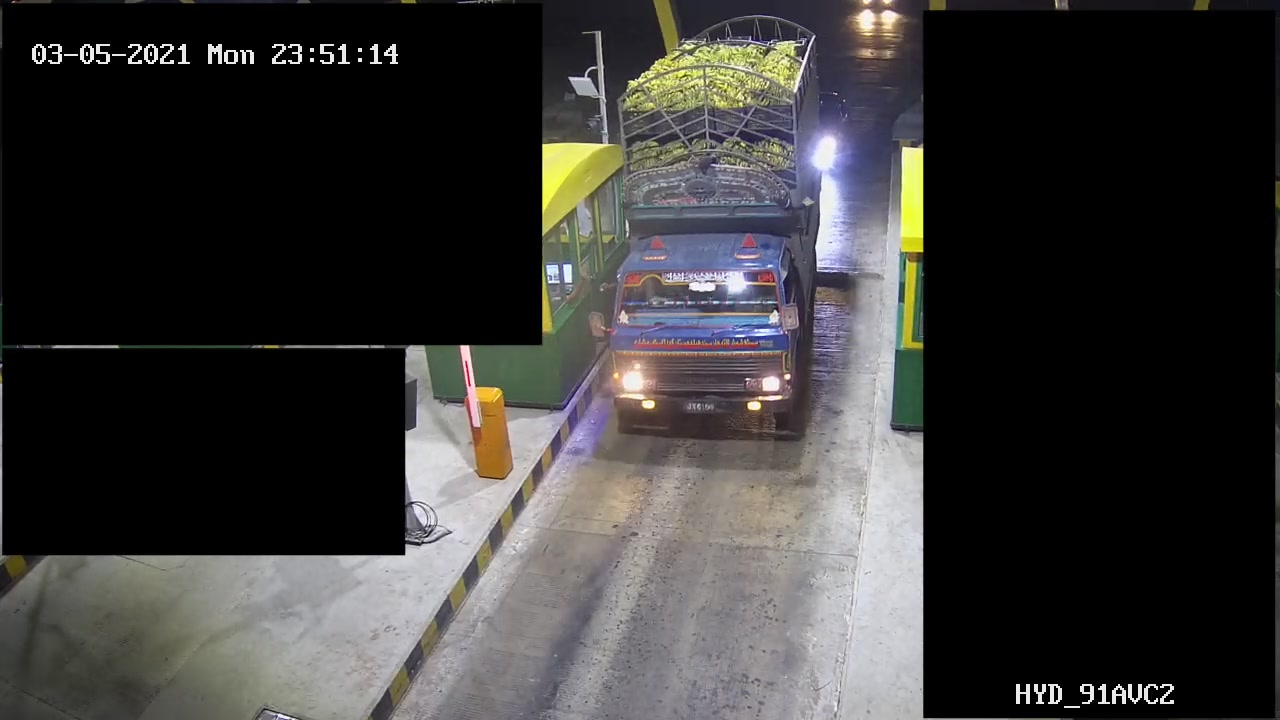F5: (600, 16, 825, 446)
